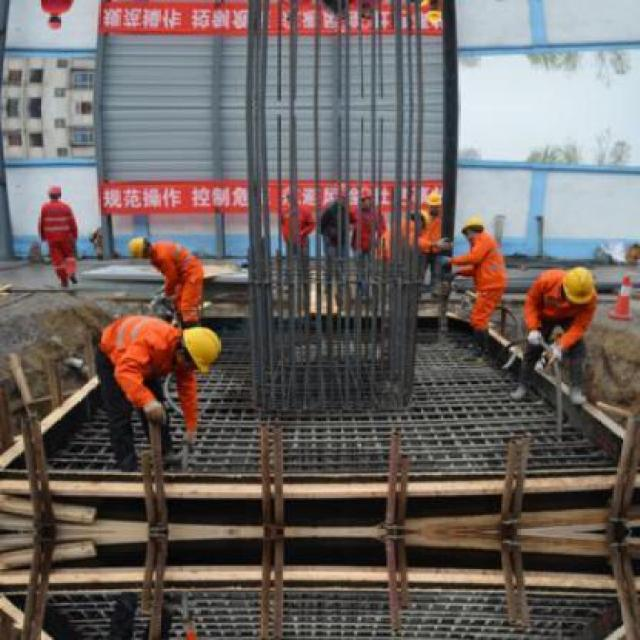helmet: (182, 321, 224, 376), (558, 265, 598, 304), (123, 227, 149, 265), (460, 211, 485, 236), (425, 192, 443, 212), (45, 180, 63, 198)
